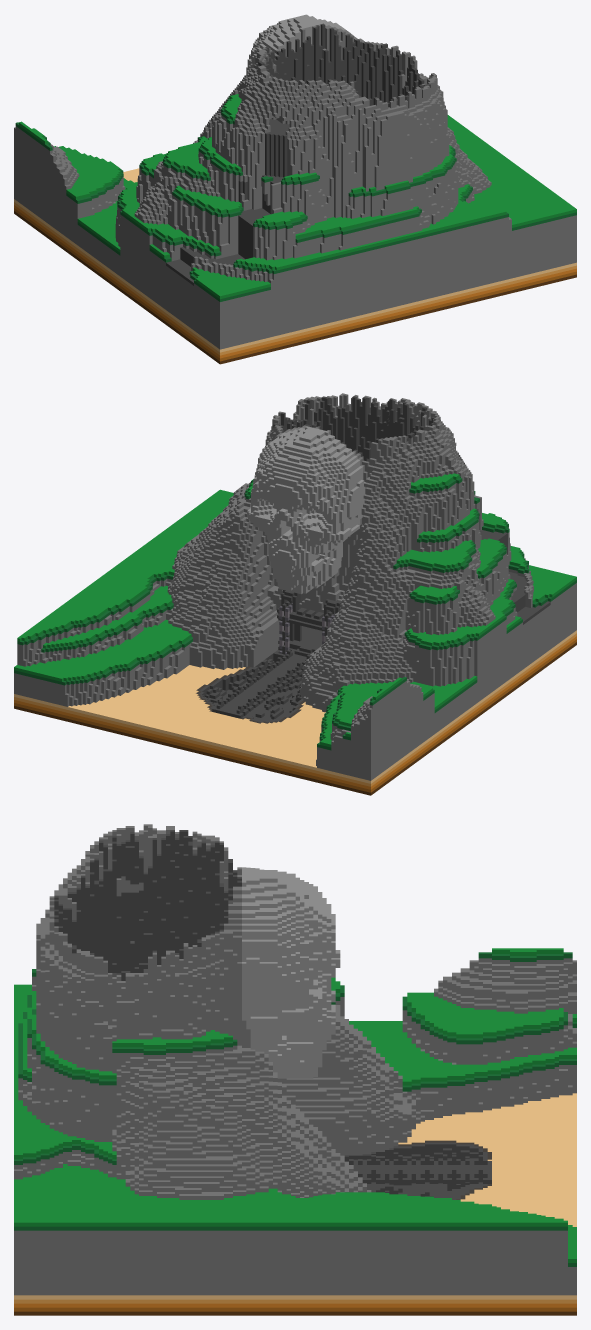
The model's file is Terrain 5.obj.
3 views of the same model, one above another, from view 1: azimuth 30°, elevation 25°; view 2: azimuth 150°, elevation 25°; view 3: azimuth 270°, elevation 25° (orthographic). The views are drawn at different scales.
Visible parts, largest first — view 1: Terrain 5; view 2: Terrain 5; view 3: Terrain 5.
Boxes of the visible parts, x1,y1,x2,y2 form: Terrain 5: (14, 14, 576, 364); Terrain 5: (14, 393, 576, 795); Terrain 5: (14, 824, 576, 1315).
Size of the model in its own units: 126 by 79 by 126.
1 material, 1 textured.
